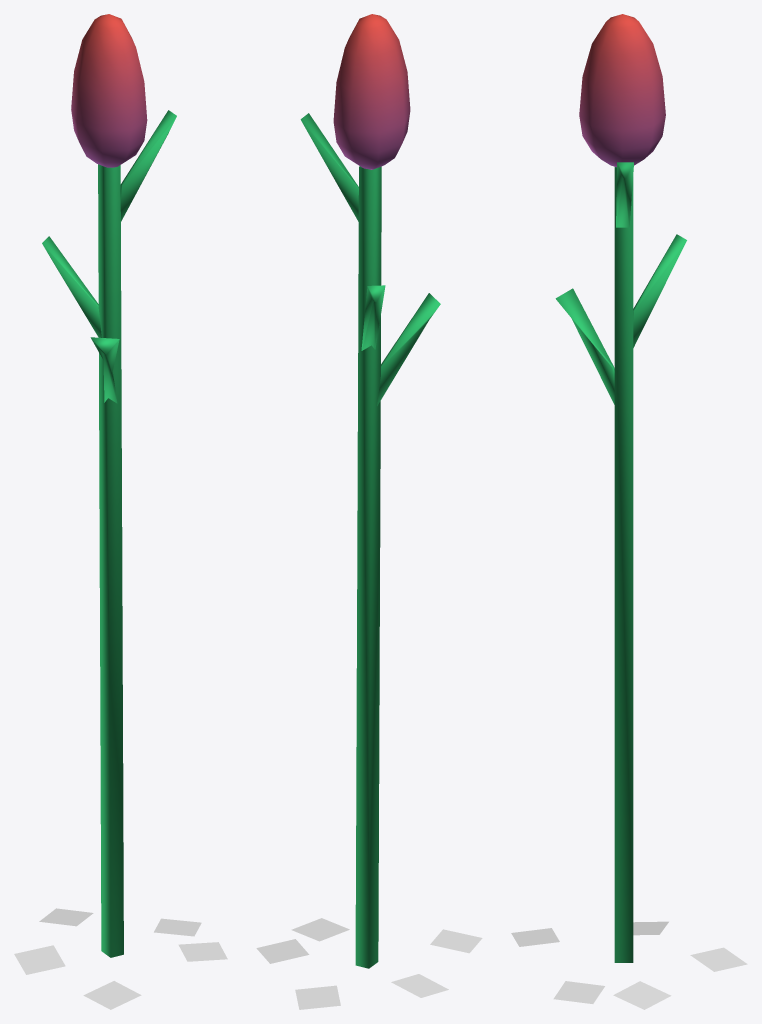
The model's file is quinoa.glb.
3 views of the same model, side by side, from view 1: azimuth 30°, elevation 25°; view 2: azimuth 150°, elevation 25°; view 3: azimuth 270°, elevation 25° (orthographic).
Parts seen in each view (by area): view 1: quinoa, quinoa_copy, quinoa_copy.003, quinoa_copy.001, quinoa_copy.004, quinoa_copy.002; view 2: quinoa, quinoa_copy.002, quinoa_copy.004, quinoa_copy.003, quinoa_copy, quinoa_copy.001; view 3: quinoa, quinoa_copy.004, quinoa_copy.001, quinoa_copy.002, quinoa_copy.003.
Boxes of the visible parts, box(x1,y1,x2,y2) form: quinoa: box(42, 14, 176, 957); quinoa_copy: box(14, 945, 65, 974); quinoa_copy.003: box(83, 981, 141, 1009); quinoa_copy.001: box(178, 942, 227, 961); quinoa_copy.004: box(154, 918, 201, 936); quinoa_copy.002: box(39, 908, 93, 926); quinoa: box(300, 14, 440, 968); quinoa_copy.002: box(295, 985, 340, 1009); quinoa_copy.004: box(256, 939, 309, 963); quinoa_copy.003: box(430, 929, 482, 953); quinoa_copy: box(391, 974, 448, 997); quinoa_copy.001: box(291, 918, 349, 941); quinoa: box(555, 14, 686, 962); quinoa_copy.004: box(613, 981, 671, 1009); quinoa_copy.001: box(553, 981, 604, 1003); quinoa_copy.002: box(690, 947, 747, 971); quinoa_copy.003: box(511, 928, 559, 946).
Bounding box in the file's own units: 0.1287 × 0.6329 × 0.1434.
Materials: 1 (1 with a texture image).
